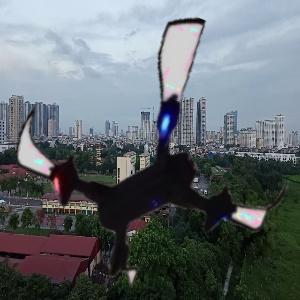drone: (9, 11, 297, 299)
